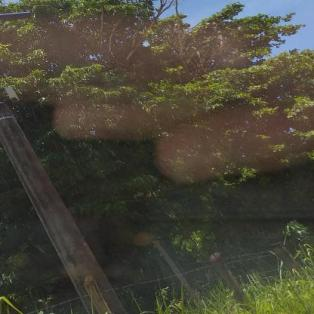Poste: (0, 0, 126, 314)
